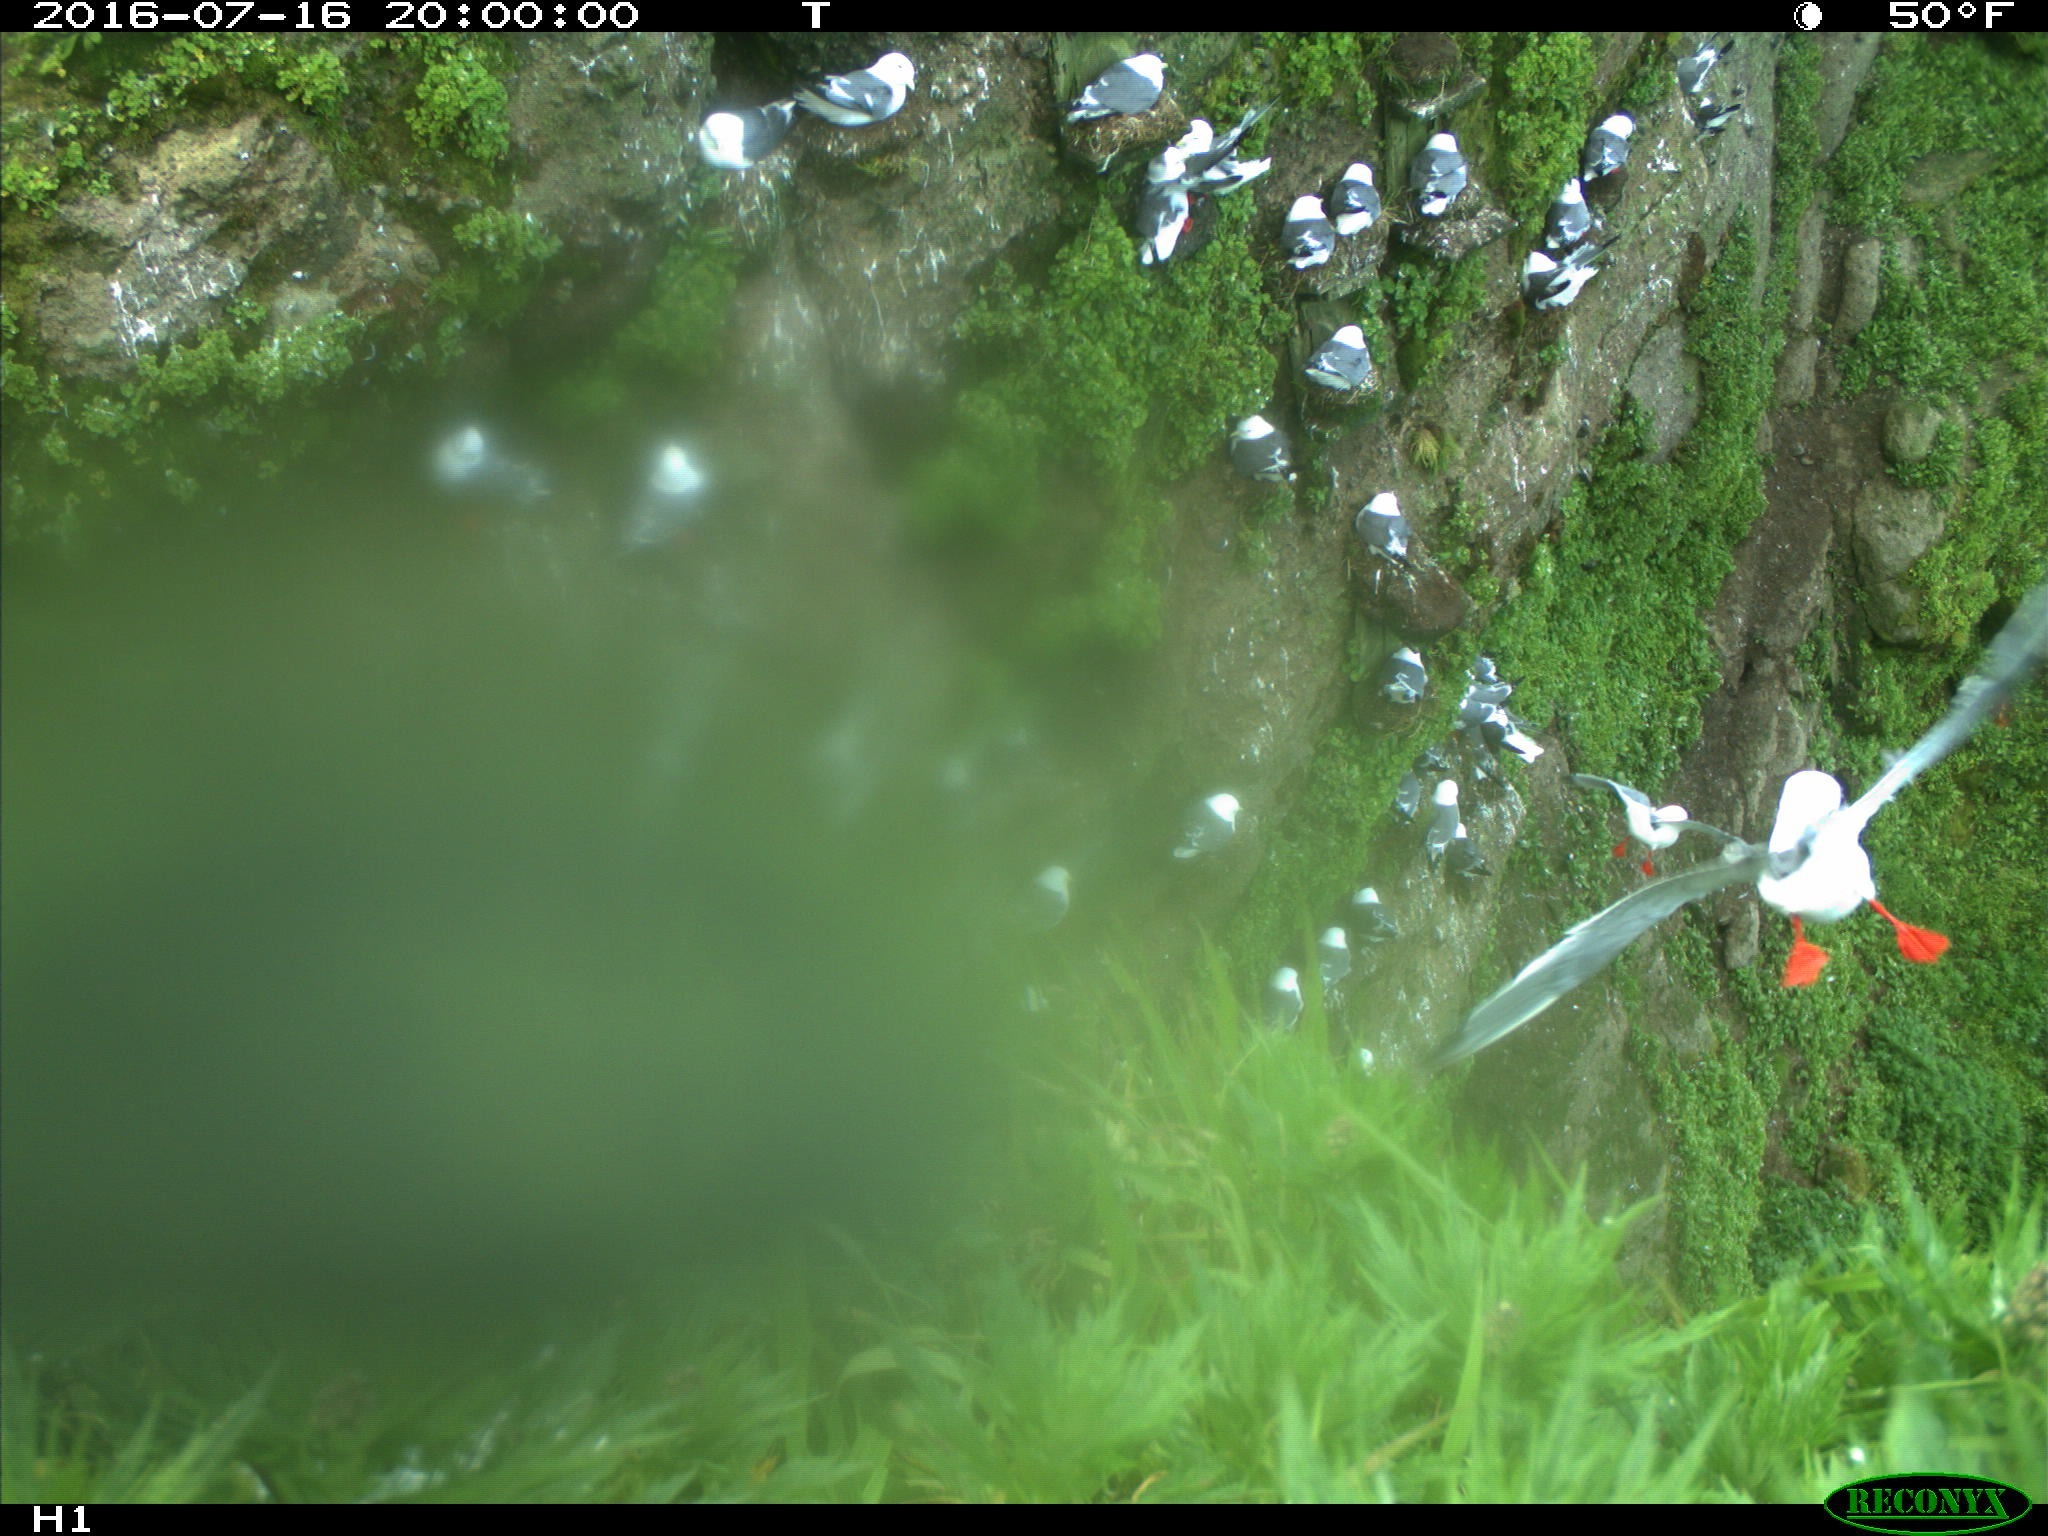Kittiwake: (1417, 592, 2048, 1118), (1555, 737, 1725, 920), (406, 394, 572, 545), (1421, 629, 1593, 774), (603, 400, 743, 557), (1153, 82, 1313, 219), (647, 84, 837, 198), (1093, 113, 1205, 298), (772, 35, 977, 131), (1142, 774, 1287, 908), (972, 849, 1137, 958), (1016, 39, 1188, 142), (1350, 611, 1492, 728), (1390, 758, 1505, 899), (1498, 224, 1630, 336), (1555, 94, 1679, 205), (1213, 386, 1324, 508), (1388, 123, 1517, 223), (1646, 39, 1755, 148), (1317, 144, 1401, 266), (1290, 311, 1400, 402), (1347, 471, 1435, 579), (1293, 920, 1397, 1008), (1268, 186, 1350, 294), (1251, 955, 1329, 1055), (1521, 173, 1637, 239), (1347, 870, 1414, 976)
